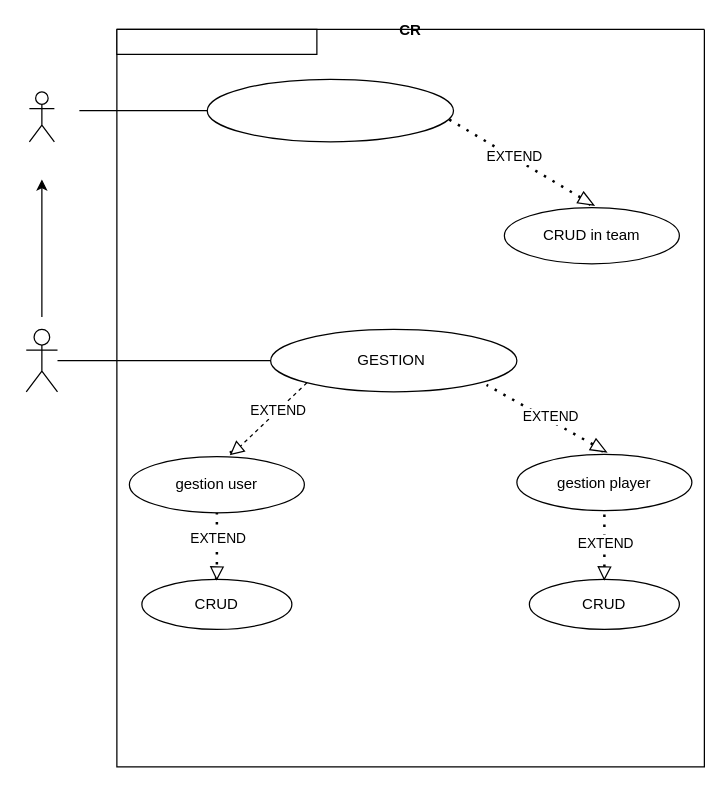
The diagram is 726 pixels wide and 789 high, and some of its shapes have lost their labels. The shapes that lost their labels are listed below. From the top down, each one's centre as x and y in pixels, then its label:
the point at 216,41: FUT GESTION PLAYERS
the point at 41,116: user
the point at 330,110: GESTION TEAM
the point at 41,360: admin
